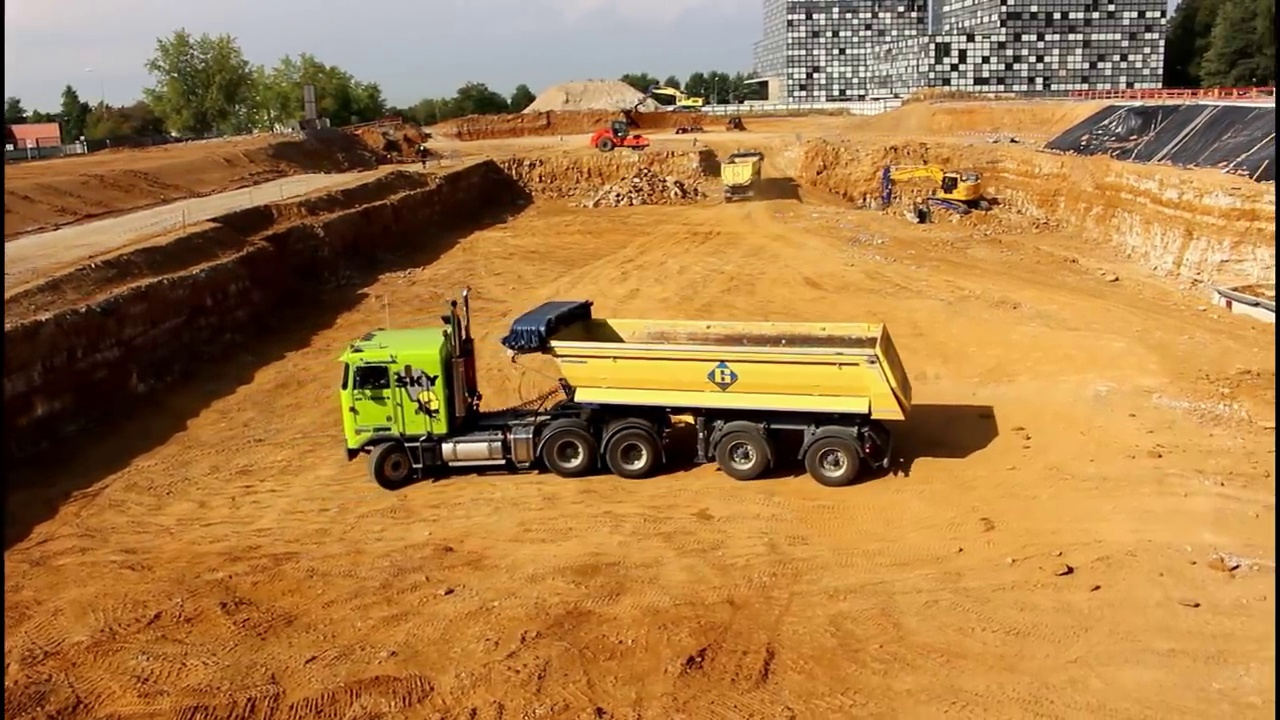compactor: (588, 112, 650, 157)
excavator: (871, 159, 998, 227), (646, 78, 711, 117)
truck: (335, 281, 922, 495), (718, 144, 773, 207)
